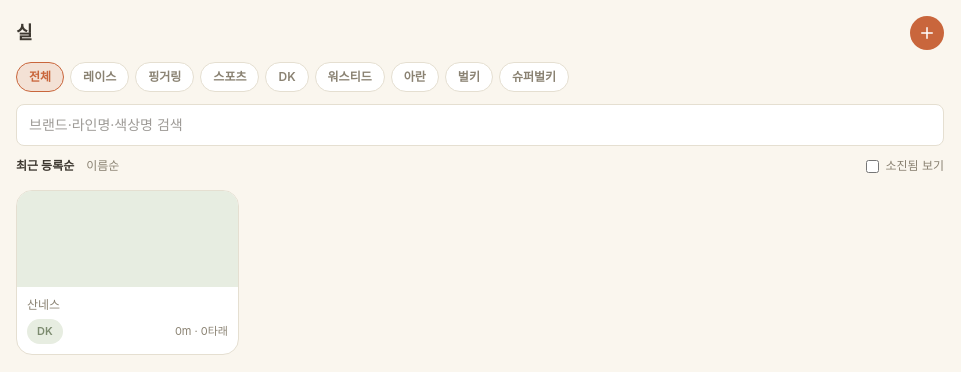
Test: YarnListPage › 필터에 맞는 실이 없으면 등록 버튼 없이 결과 없음만 안내한다
Expected: the text "산네스" is shown, [27, 297, 60, 312]
Click the button "레이스": [100, 77] box [70, 62, 129, 92]
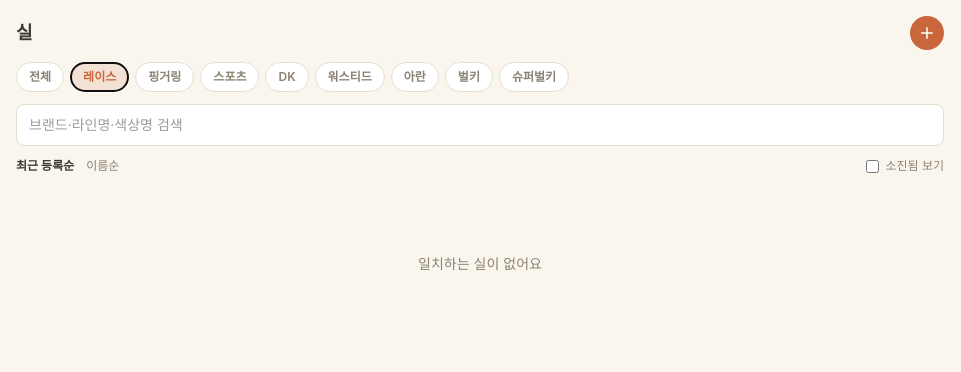
Now the text "일치하는 실이 없어요" is shown, box [418, 254, 542, 274]
